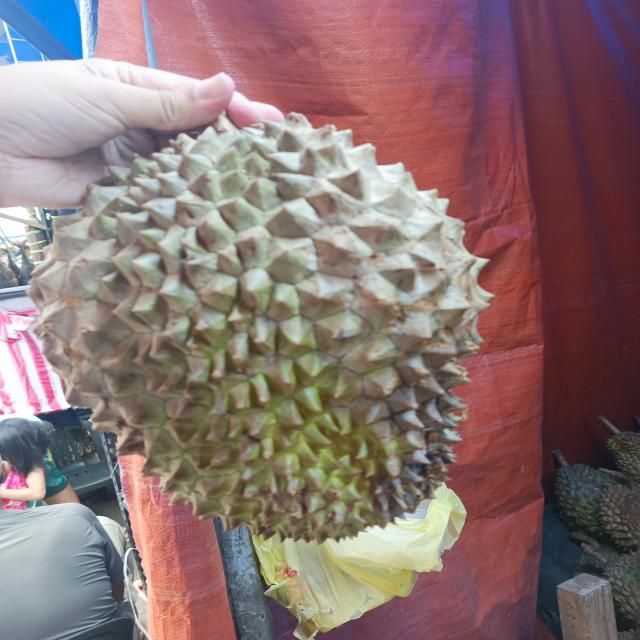mature: (22, 108, 494, 546)
